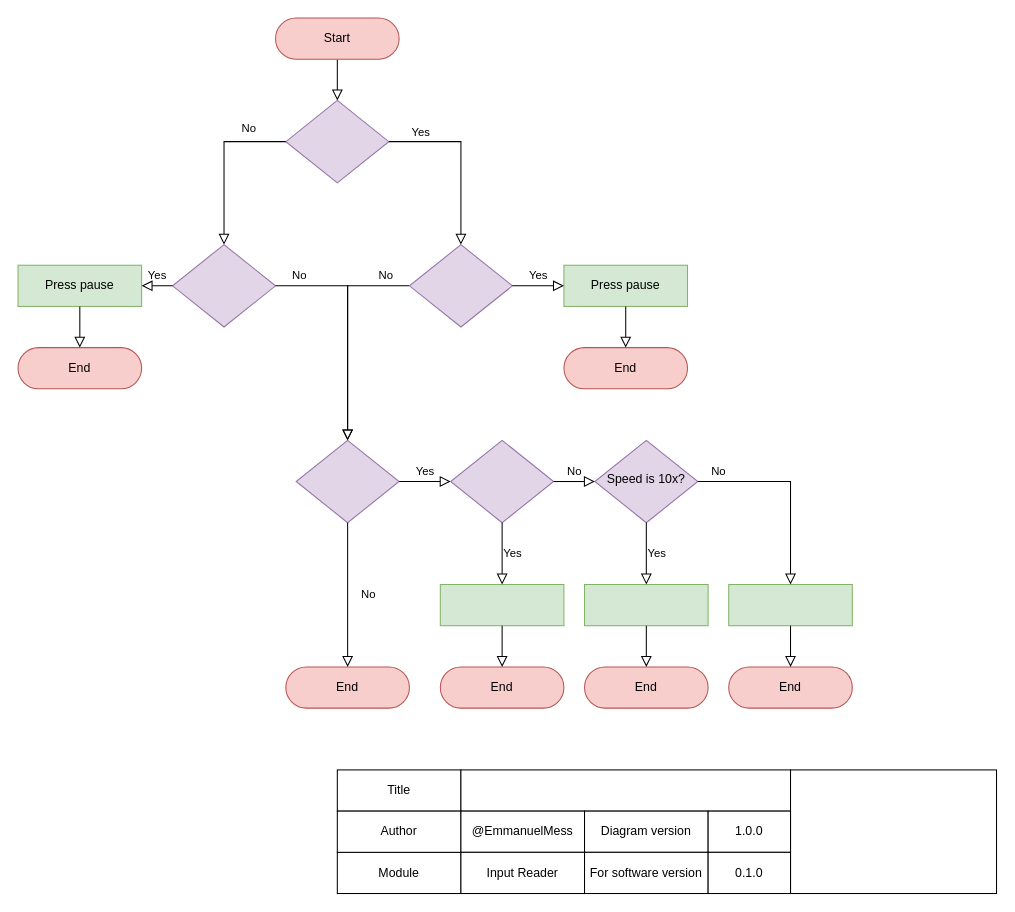
Some shapes in this 1015 by 912 pixel diagram are drawn without their labels. Each missing label, with the centre of its shape:
"100x button" goes at point 645,604.
"10x button" goes at point 501,604.
"1x button" goes at point 790,604.
"Change speed?" goes at point 347,481.
"Constraint Based Simulator" goes at point 893,831.
"is paused?" goes at point 337,141.
"Pause?" goes at point 223,285.
"Speed is 1x?" goes at point 502,481.
"Ui user flow diagram" goes at point 625,790.
"Unpause?" goes at point 460,285.
